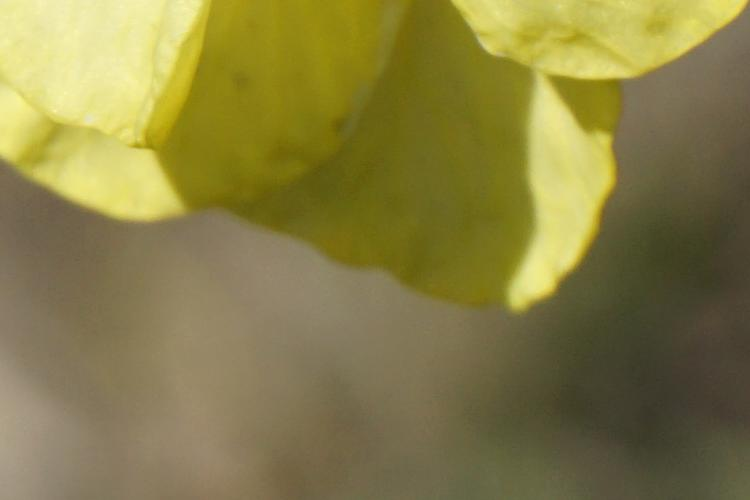yellow: (5, 4, 725, 309)
